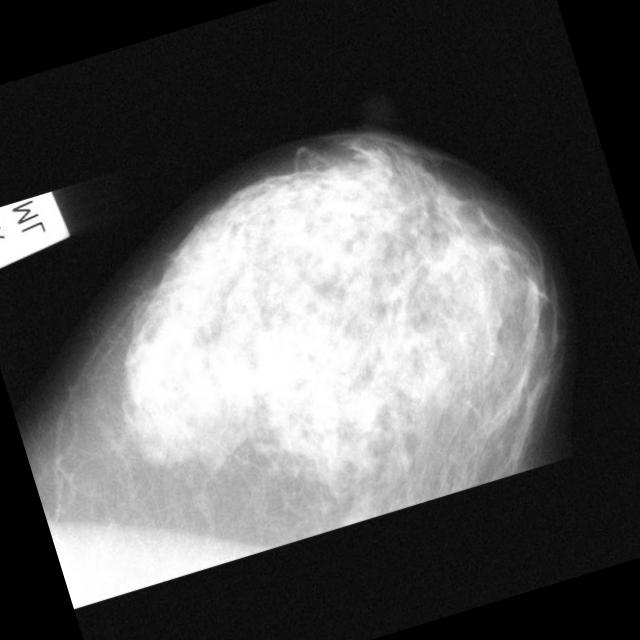ARCH: (339, 501, 374, 536)
